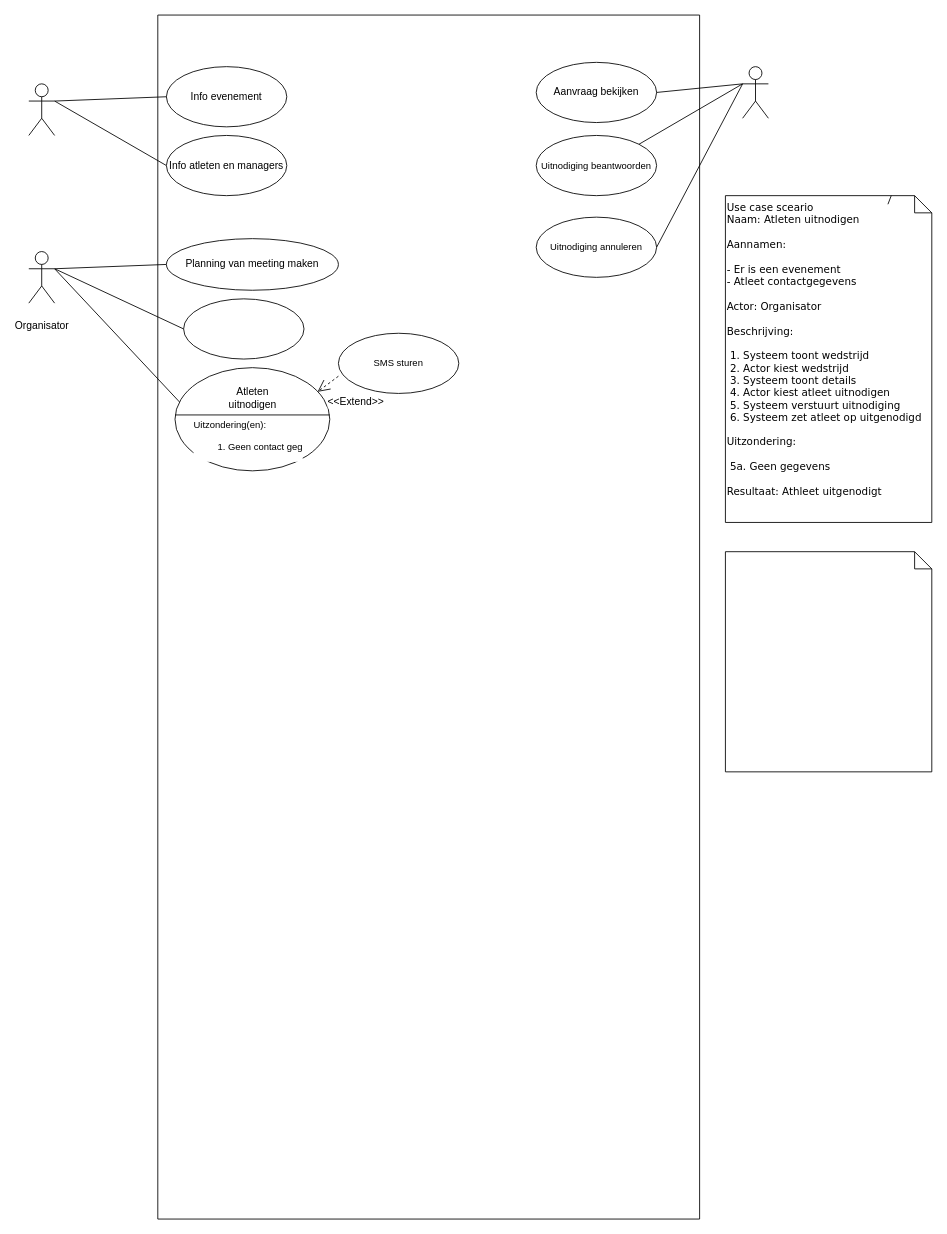
This 947x1234 diagram has some shape labels left out. Each missing label, with the box of its shape:
Alternatief scenario [5a]: (725, 551, 932, 772)
Atletiek evenement: (157, 14, 700, 1219)
Bediende: (28, 83, 55, 135)
Deelnemers toevoegen en verwijderen: (183, 298, 304, 359)
Manager: (742, 66, 768, 118)
